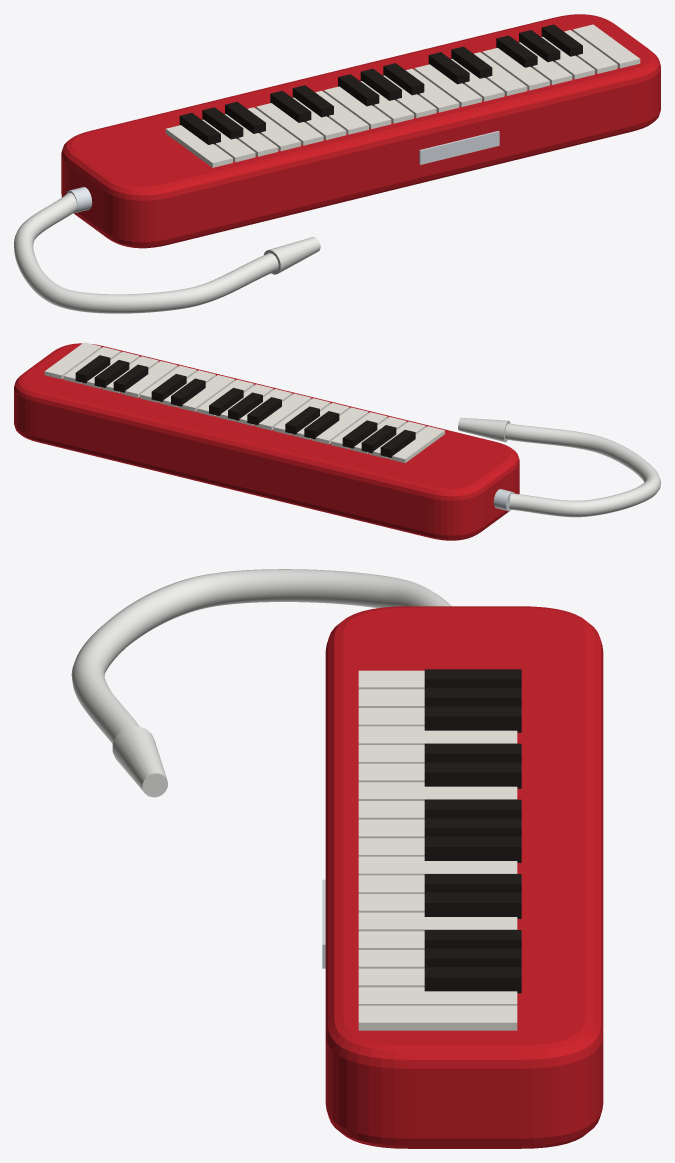
The model's file is melodica.glb.
The picture shows the model from 3 angles, top to bottom: view 1: azimuth 30°, elevation 25°; view 2: azimuth 150°, elevation 25°; view 3: azimuth 270°, elevation 25°; orthographic projection. The views are drawn at different scales.
Size of the model in its own units: 0.5887 by 0.062 by 0.2413.
